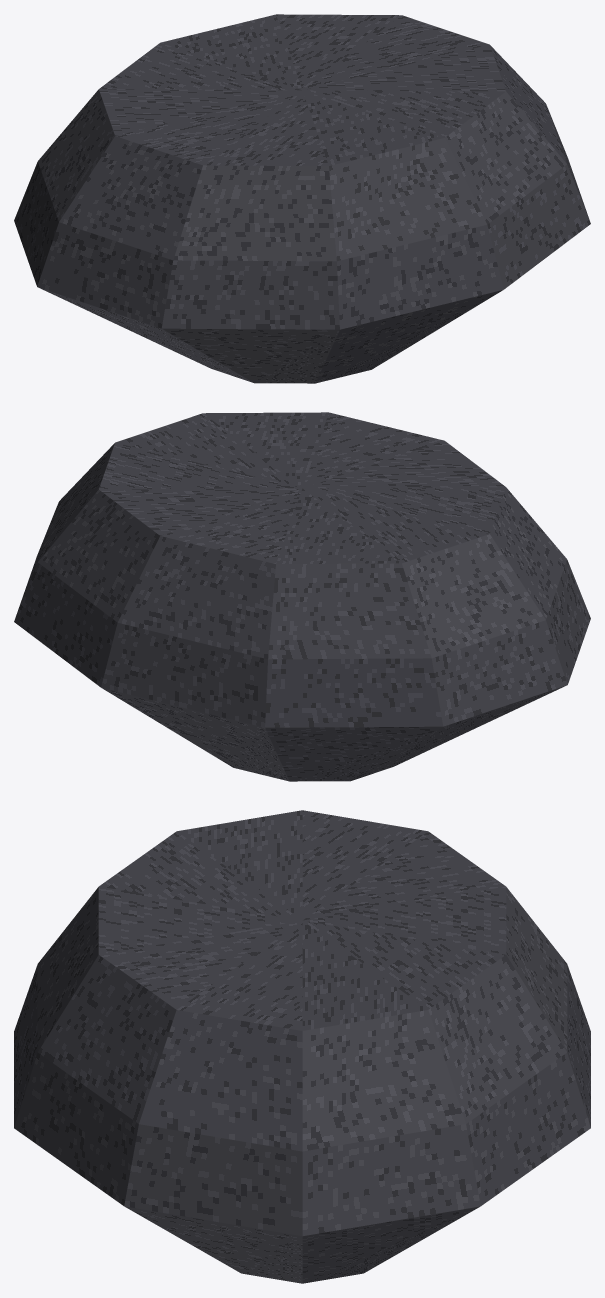
Rendered from onyx.glb.
The picture shows the model from 3 angles, top to bottom: view 1: azimuth 30°, elevation 25°; view 2: azimuth 150°, elevation 25°; view 3: azimuth 270°, elevation 25°; orthographic projection. The views are drawn at different scales.
Visible parts, largest first — view 1: block_faceted cut stone; view 2: block_faceted cut stone; view 3: block_faceted cut stone.
Part boxes in pixels (<box>): block_faceted cut stone: <box>14,14,590,383</box>; block_faceted cut stone: <box>14,412,590,781</box>; block_faceted cut stone: <box>14,810,590,1283</box>.
Bounding box in the file's own units: 0.0505 × 0.0246 × 0.0394.
1 material, 1 textured.
